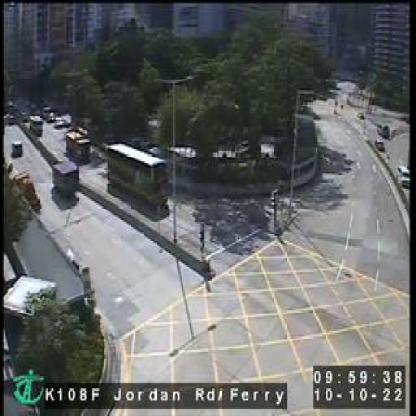Bus: (107, 144, 172, 206)
Car: (399, 163, 411, 188), (378, 121, 391, 138), (12, 141, 24, 157)
Truck: (51, 158, 80, 200), (64, 132, 90, 162)
